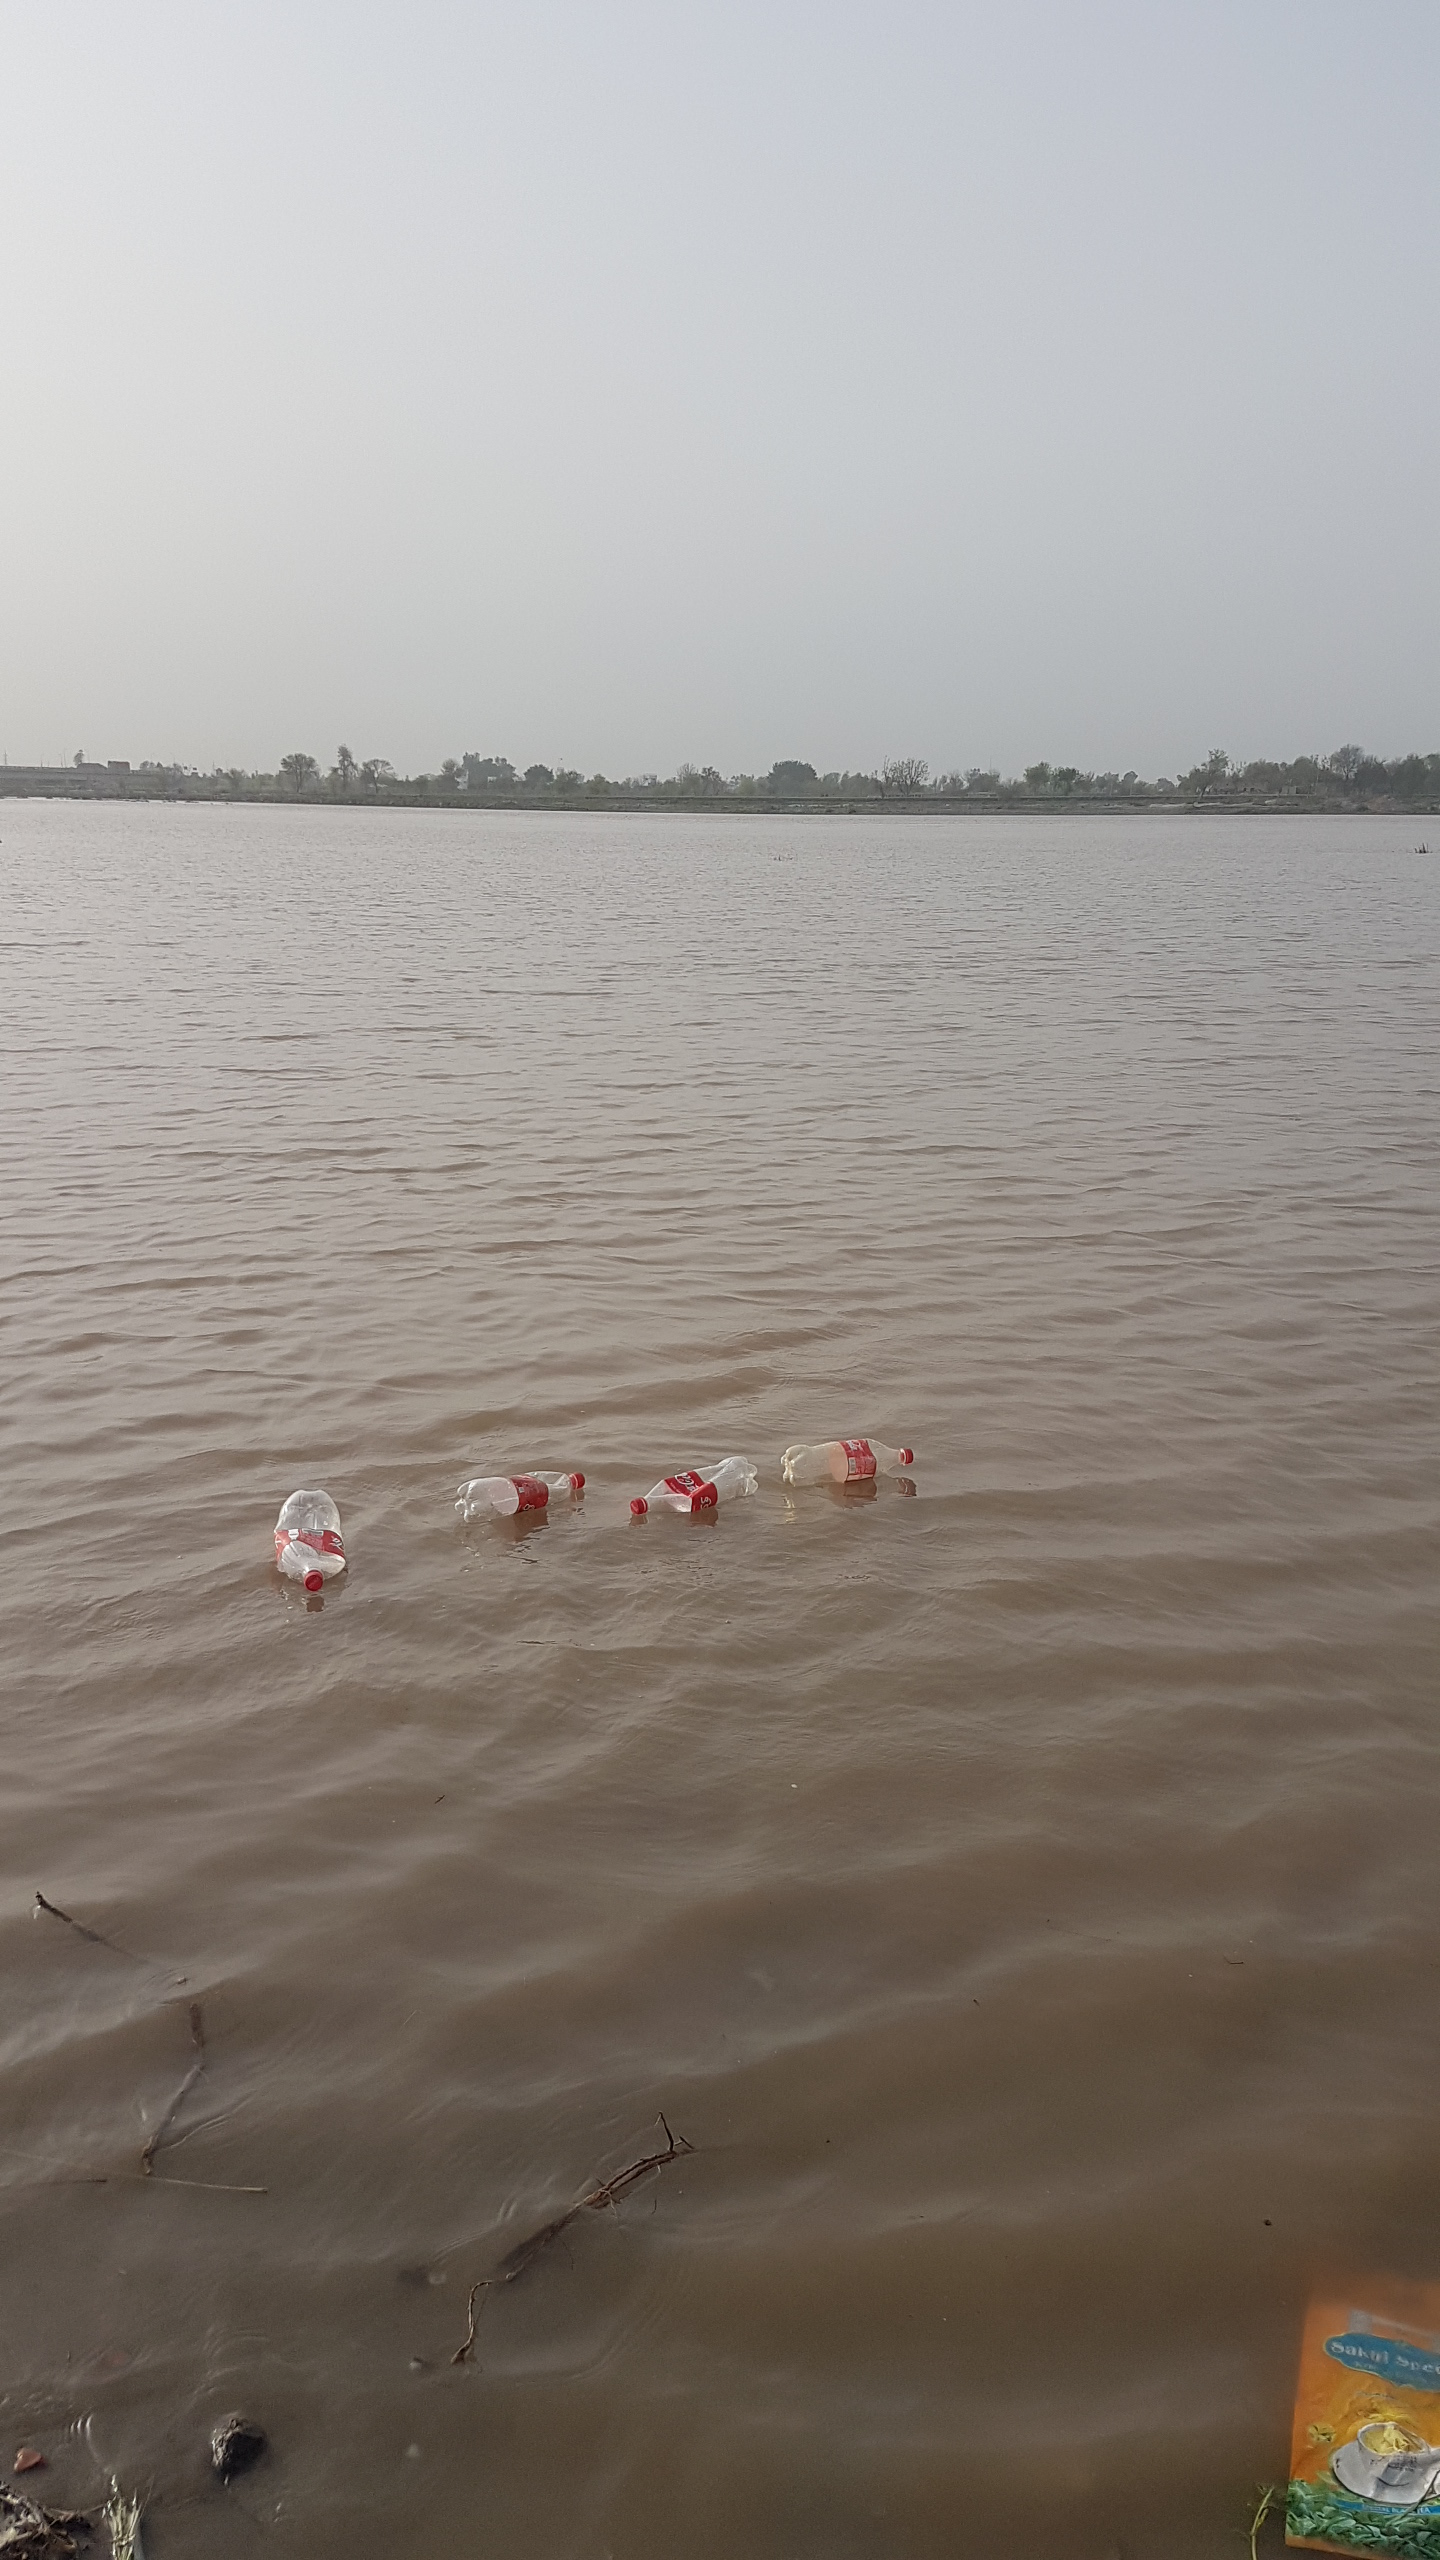Plastic Bottle: (629, 1456, 760, 1514), (273, 1489, 346, 1589), (455, 1470, 585, 1524), (781, 1436, 914, 1486)
